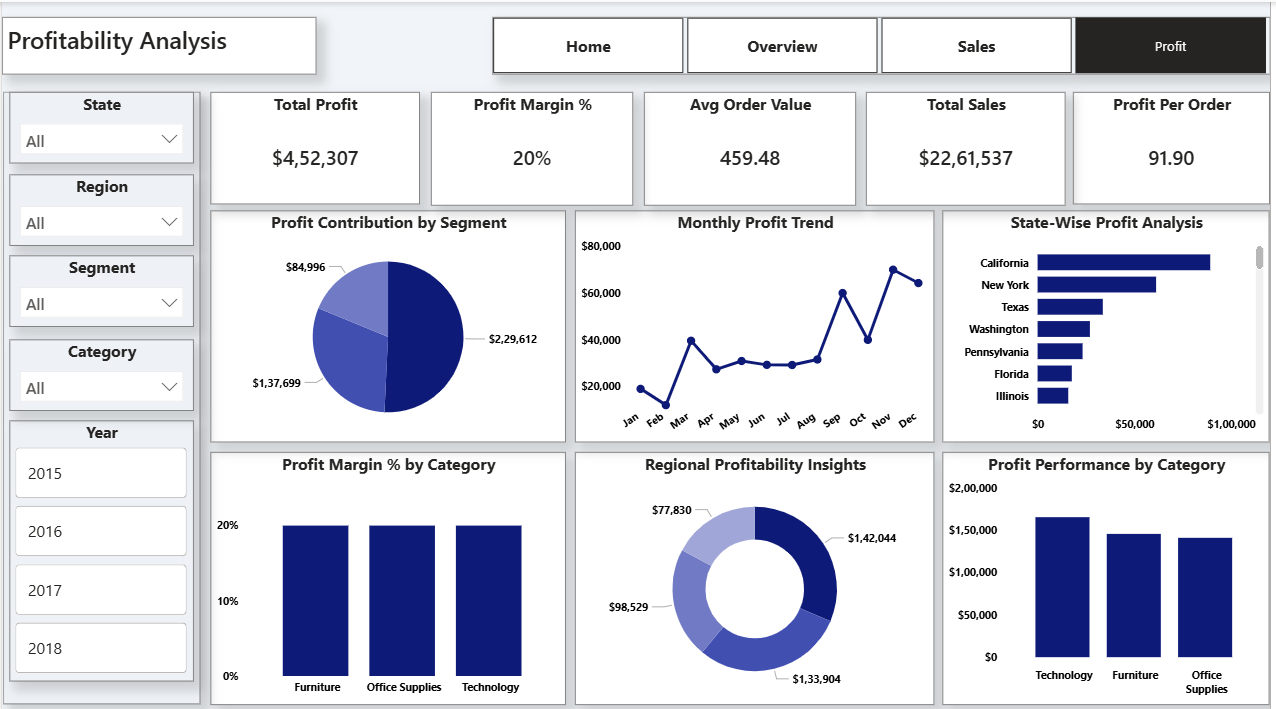

The dashboard page shown, as its layout file describes it:
{"tool":"powerbi","page":{"name":"Profit","canvas":[1280,720],"ordinal":3},"visuals":[{"type":"columnChart","fields":{"Category":["Sales.Category"],"Y":["All measures.Profit Margin %"]},"box":[211.2,453.5,358.6,255.1],"z":0},{"type":"donutChart","title":"Regional Profitability Insights","fields":{"Category":["Sales.Region"],"Y":["All measures.Total Profit"]},"box":[578.3,453.5,362.8,255.1],"z":1000},{"type":"clusteredColumnChart","title":"Profit Performance by Category","fields":{"Category":["Sales.Category"],"Y":["All measures.Total Profit"]},"box":[949.6,453.5,330.2,255.1],"z":2000},{"type":"pieChart","title":"Profit Contribution by Segment","fields":{"Category":["Sales.Segment"],"Y":["All measures.Total Profit"]},"box":[211.2,211.2,358.6,233.9],"z":3000},{"type":"lineChart","title":"Monthly Profit Trend","fields":{"Y":["All measures.Total Profit"],"Category":["Date_Table.Month Short"]},"box":[578.3,211.2,362.8,233.9],"z":4000},{"type":"clusteredBarChart","title":"State-Wise Profit Analysis","fields":{"Y":["All measures.Total Profit"],"Category":["Sales.State"]},"box":[949.6,211.2,330.2,233.9],"z":5000},{"type":"card","title":"Profit Per Order","fields":{"Values":["All measures.Profit per Order"]},"box":[1081.4,90.7,198.4,113.4],"z":6000},{"type":"card","title":"Avg Order Value","fields":{"Values":["All measures.Avg Order Value"]},"box":[647.7,90.7,214,114.8],"z":7000},{"type":"card","title":"Total Profit","fields":{"Values":["All measures.Total Profit"]},"box":[211.2,90.7,211.2,113.4],"z":8000},{"type":"card","title":"Profit Margin %","fields":{"Values":["All measures.Profit Margin %"]},"box":[433.7,90.7,204.1,114.8],"z":9000},{"type":"textbox","box":[0,15.6,317.5,58.1],"z":10000},{"type":"shape","box":[1.4,90.7,198.4,618],"z":11000},{"type":"slicer","title":"State","fields":{"Values":["Sales.State"]},"box":[7.1,90.7,185.7,72.3],"z":12000},{"type":"slicer","title":"Region","fields":{"Values":["Sales.Region"]},"box":[7.1,174.3,185.7,72.3],"z":13000},{"type":"slicer","title":"Segment","fields":{"Values":["Sales.Segment"]},"box":[7.1,256.5,185.7,72.3],"z":14000},{"type":"advancedSlicerVisual","fields":{"Values":["Date_Table.Order Date.Variation.Date Hierarchy.Year"]},"box":[7.1,422.4,185.7,263.6],"z":15000},{"type":"card","title":"Total Sales","fields":{"Values":["All measures.Total Sales"]},"box":[871.7,90.7,201.3,114.8],"z":16000},{"type":"pageNavigator","box":[494.6,15.6,785.2,58.1],"z":17000},{"type":"slicer","title":"Category","fields":{"Values":["Sales.Category"]},"box":[7.1,340.2,185.7,72.3],"z":18000}]}

Visuals, with their boxes in screenshot pixels (x1, y1, x2, y2), scaled from the page's 1280x720 canvas onto the 1276x709 screenshot:
columnChart - Sales.Category x All measures.Profit Margin %: bbox=(211, 447, 568, 698)
"Regional Profitability Insights" donutChart: bbox=(576, 447, 938, 698)
"Profit Performance by Category" clusteredColumnChart: bbox=(947, 447, 1275, 698)
"Profit Contribution by Segment" pieChart: bbox=(211, 208, 568, 438)
"Monthly Profit Trend" lineChart: bbox=(576, 208, 938, 438)
"State-Wise Profit Analysis" clusteredBarChart: bbox=(947, 208, 1275, 438)
"Profit Per Order" card: bbox=(1078, 89, 1275, 201)
"Avg Order Value" card: bbox=(646, 89, 859, 202)
"Total Profit" card: bbox=(211, 89, 421, 201)
"Profit Margin %" card: bbox=(432, 89, 636, 202)
textbox: bbox=(0, 15, 317, 73)
shape: bbox=(1, 89, 199, 698)
"State" slicer: bbox=(7, 89, 192, 161)
"Region" slicer: bbox=(7, 172, 192, 243)
"Segment" slicer: bbox=(7, 253, 192, 324)
advancedSlicerVisual - Date_Table.Order Date.Variation.Date Hierarchy.Year: bbox=(7, 416, 192, 676)
"Total Sales" card: bbox=(869, 89, 1070, 202)
pageNavigator: bbox=(493, 15, 1275, 73)
"Category" slicer: bbox=(7, 335, 192, 406)
